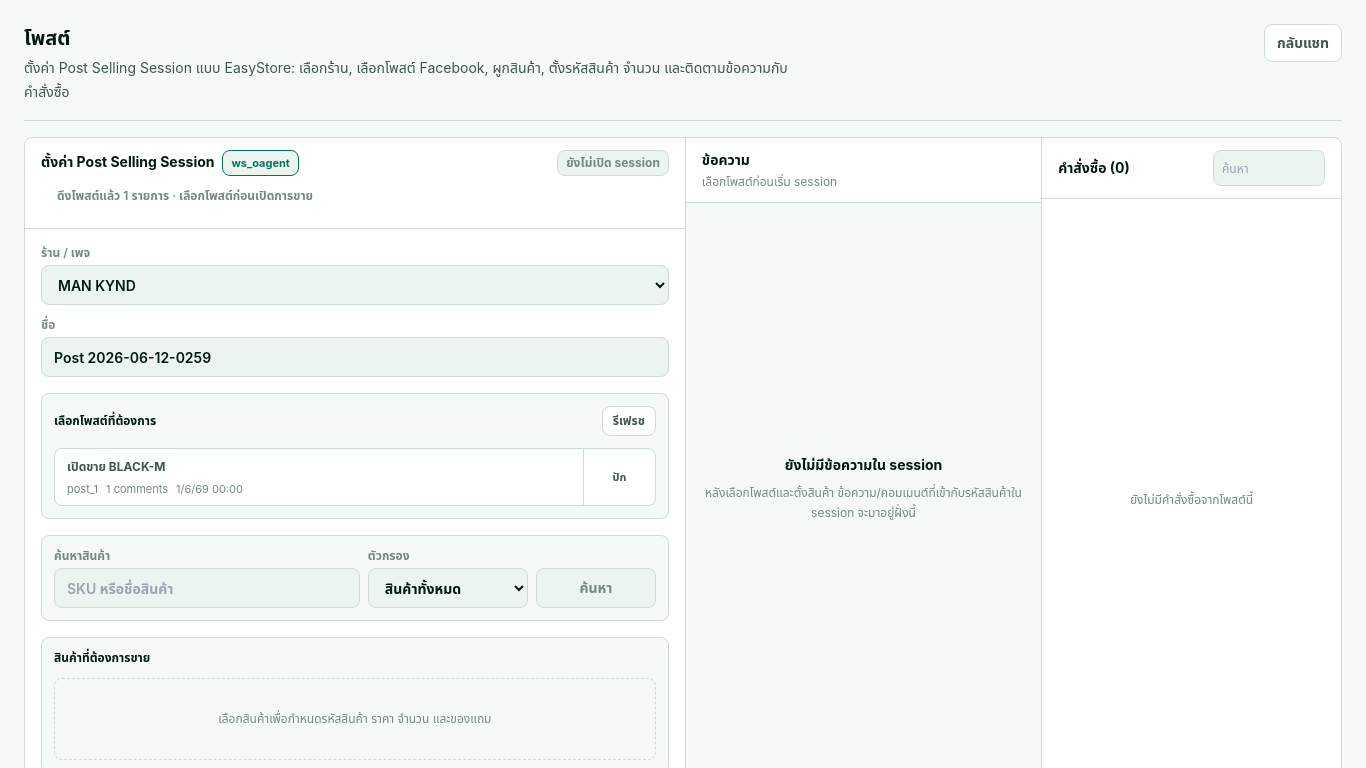
Test case: SocialOpsBoard workspace derivation › shows only orders linked to the selected post session
The image size is (1366, 768).
Check: the heading "คำสั่งซื้อ (0)" is shown, box [1058, 158, 1130, 178]
Click the button with aria-label "เลือกโพสต์ เปิดขาย BLACK-M" at [116, 466], box [55, 449, 583, 505]
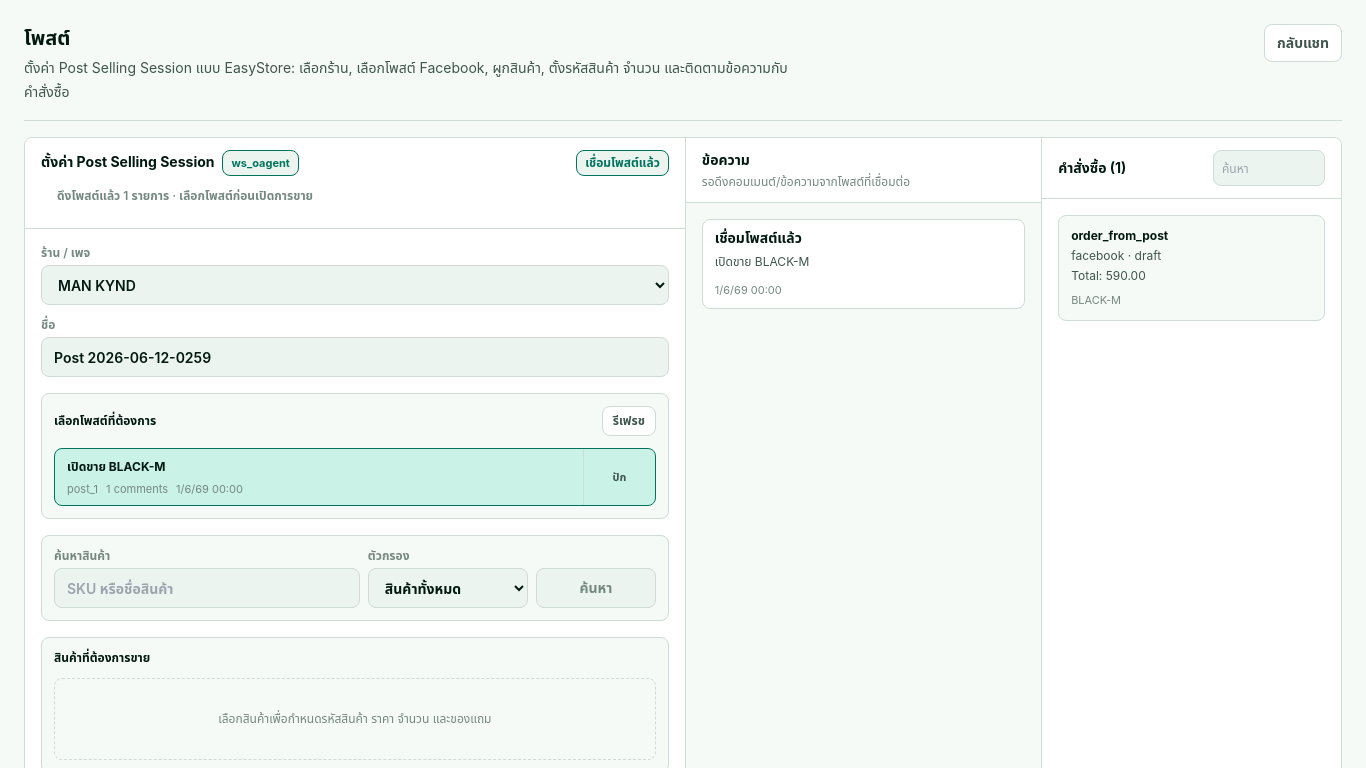
Check: the heading "คำสั่งซื้อ (1)" is shown, box [1058, 158, 1126, 178]
Check: the text "order_from_post" is shown, box [1071, 228, 1168, 243]
